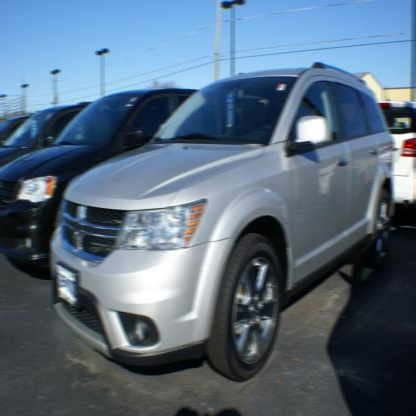Vehicle: (50, 61, 395, 383)
